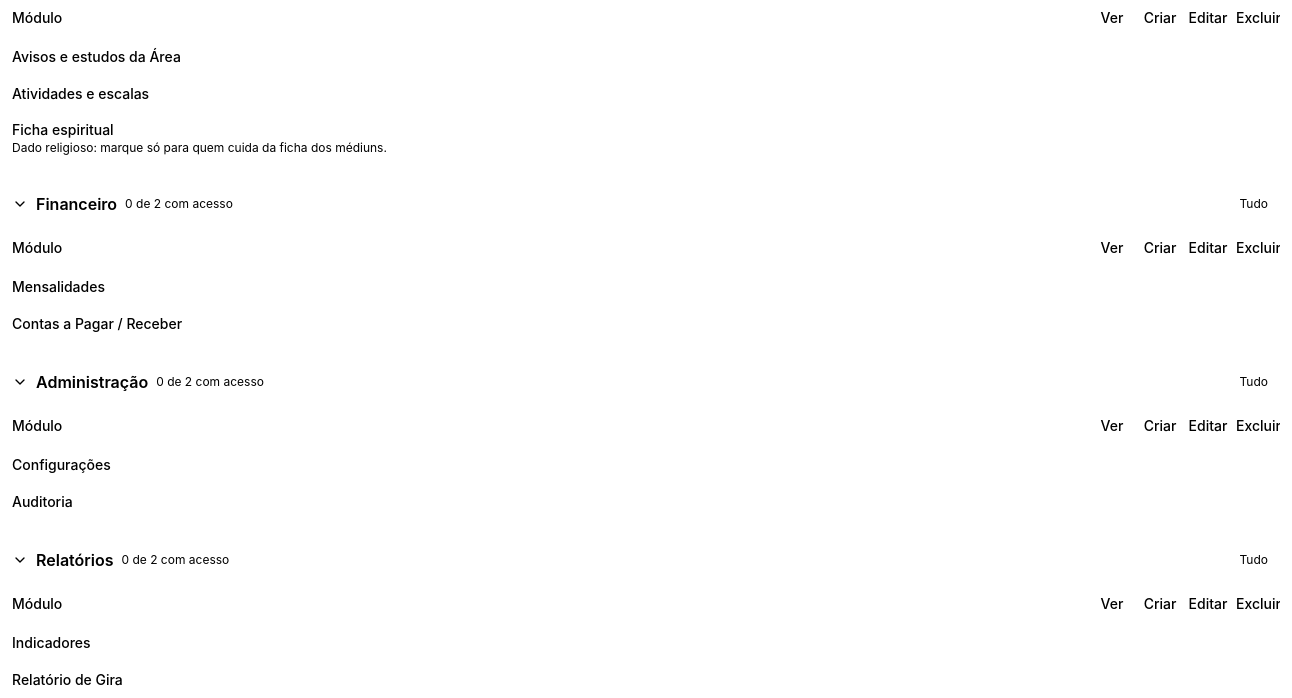
Test: PermissionMatrix › collapses an area
(page scrolled)
Click the button "Relatórios 0 de 2 com acesso".
click(75, 560)  # box [12,544,1208,576]
(page scrolled)
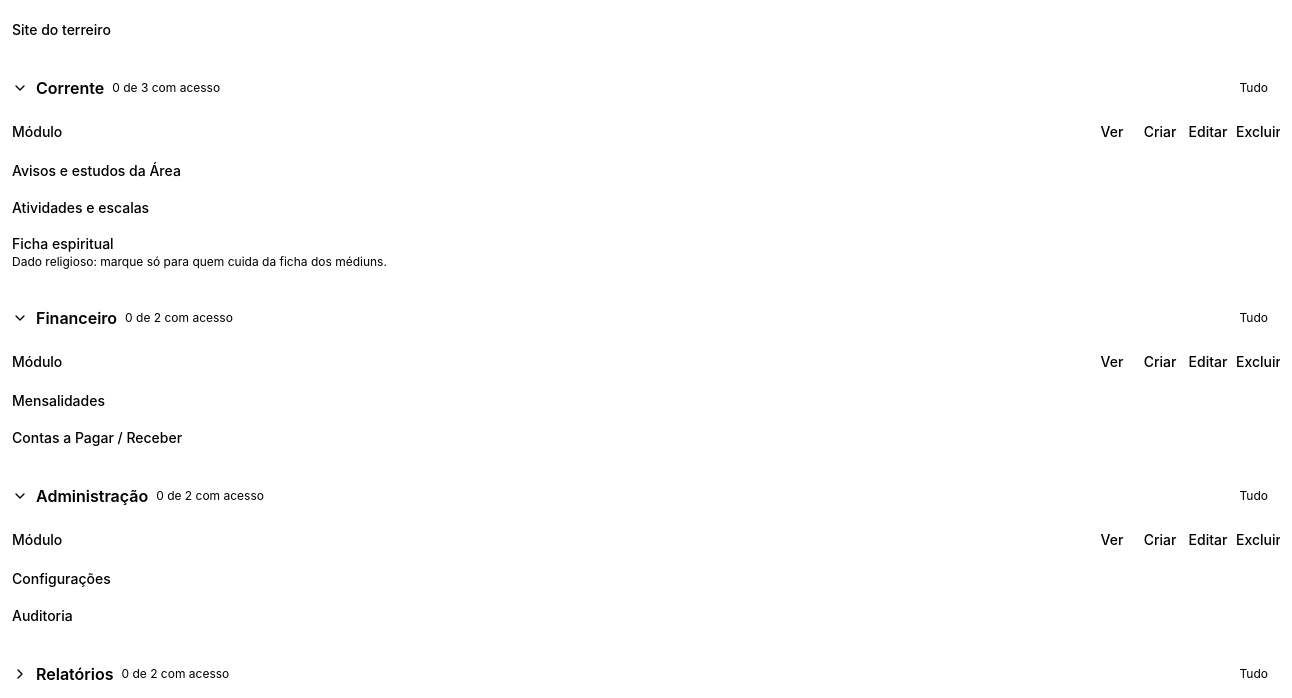
Result: the text "Indicadores" is gone
